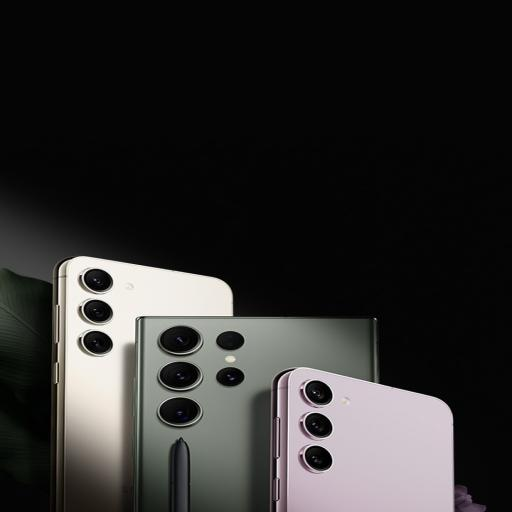phone: (130, 317, 382, 509)
